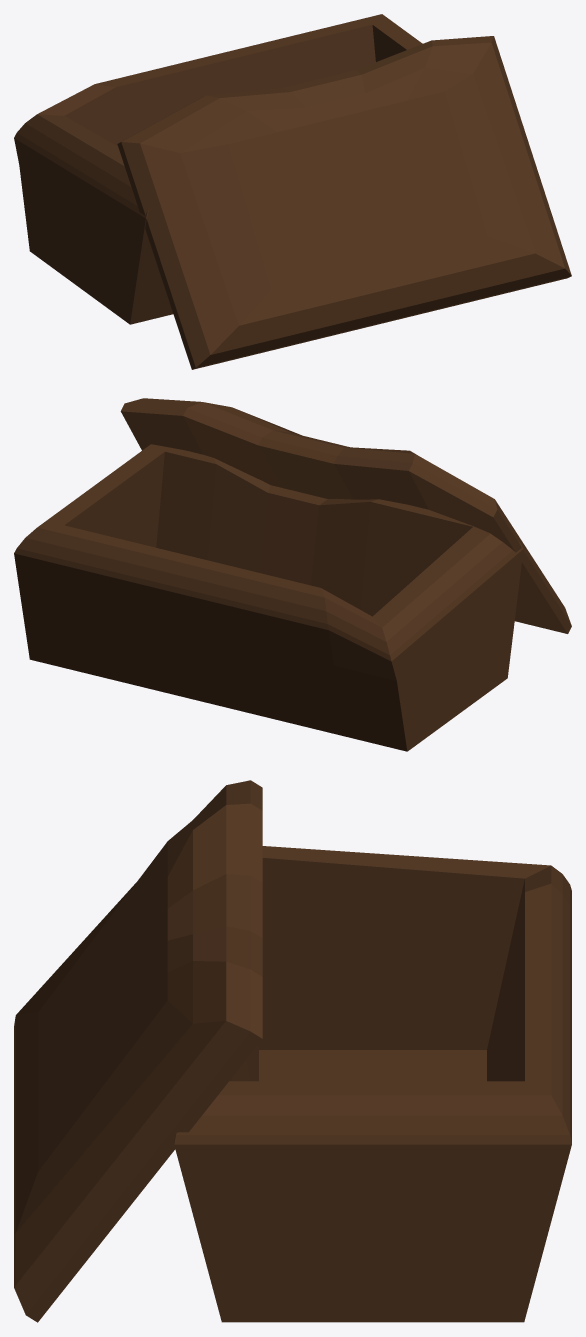
Rendered from open tomb (1).fbx.
The picture shows the model from 3 angles, top to bottom: view 1: azimuth 30°, elevation 25°; view 2: azimuth 150°, elevation 25°; view 3: azimuth 270°, elevation 25°; orthographic projection. The views are drawn at different scales.
Visible parts, largest first — view 1: Cube.045, Cube.044; view 2: Cube.044, Cube.045; view 3: Cube.044, Cube.045.
Boxes of the visible parts, box(x1,y1,x2,y2) form: Cube.045: box(117, 36, 571, 369); Cube.044: box(14, 14, 422, 324); Cube.044: box(14, 444, 523, 751); Cube.045: box(120, 398, 571, 633); Cube.044: box(174, 846, 571, 1322); Cube.045: box(14, 780, 262, 1322).
Size of the model in its own units: 434 by 224 by 368.
